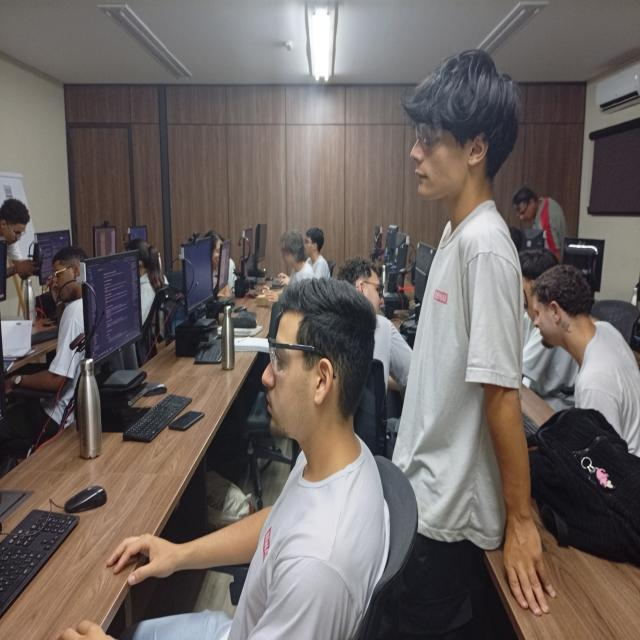oculos-epi: (268, 337, 326, 371), (416, 120, 443, 156), (439, 121, 450, 129)
sem_oculos: (355, 271, 387, 296), (46, 265, 78, 283), (527, 305, 572, 317), (9, 213, 24, 242), (279, 247, 303, 262), (520, 192, 530, 226), (304, 236, 321, 250)
